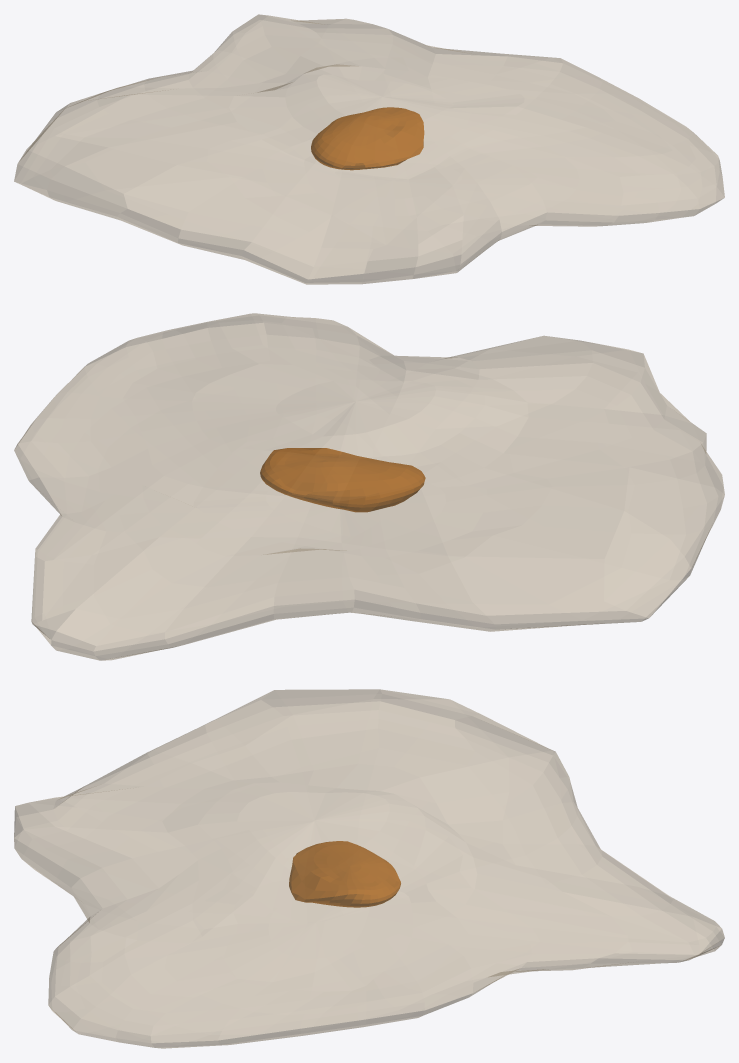
Rendered from amoeba 1.gltf.
3 views of the same model, one above another, from view 1: azimuth 30°, elevation 25°; view 2: azimuth 150°, elevation 25°; view 3: azimuth 270°, elevation 25° (orthographic). The views are drawn at different scales.
Parts seen in each view (by area): view 1: Sphere, Sphere.001; view 2: Sphere, Sphere.001; view 3: Sphere, Sphere.001.
Boxes of the visible parts, box(x1,y1,x2,y2) form: Sphere: box(14, 14, 724, 284); Sphere.001: box(311, 107, 424, 170); Sphere: box(14, 313, 724, 660); Sphere.001: box(260, 448, 425, 512); Sphere: box(14, 689, 724, 1048); Sphere.001: box(289, 841, 400, 907).
Bounding box in the file's own units: 9.18 × 1.57 × 8.96.
